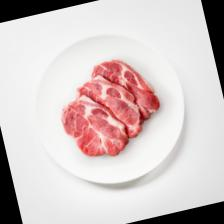meat: (57, 87, 133, 166), (72, 68, 145, 148), (89, 51, 162, 128)
